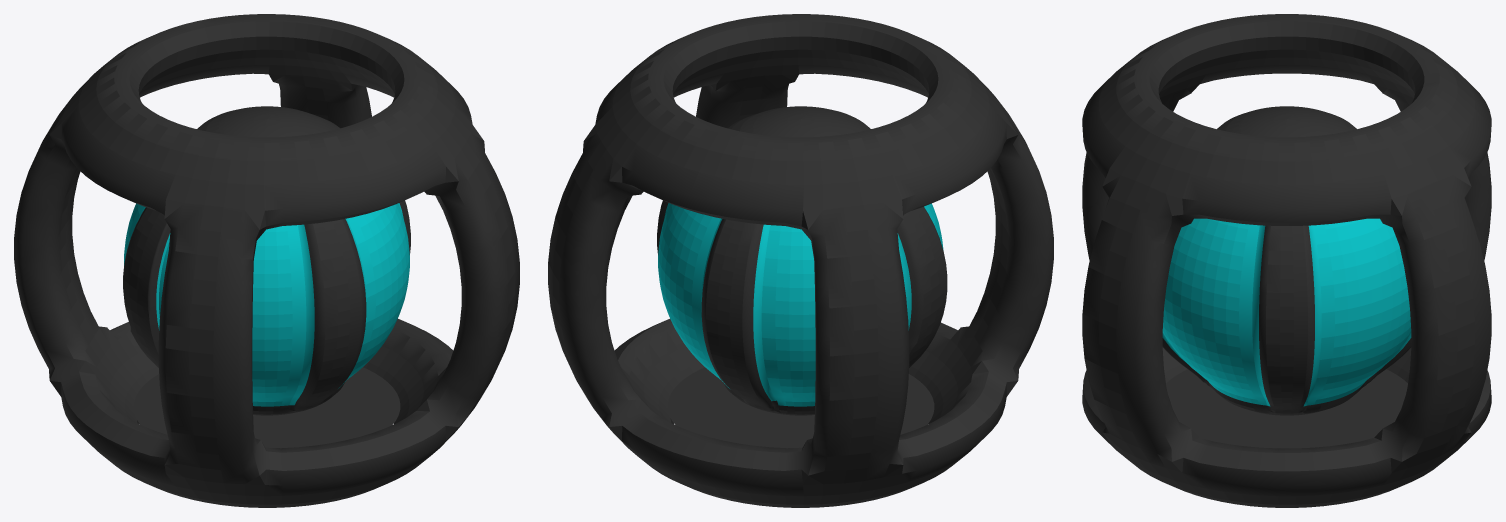
The model's file is AwfulDrone.obj.
The picture shows the model from 3 angles, left to right: view 1: azimuth 30°, elevation 25°; view 2: azimuth 150°, elevation 25°; view 3: azimuth 270°, elevation 25°; orthographic projection.
Parts seen in each view (by area): view 1: Sphere.002_Sphere.001, Sphere.001_Sphere.002, Cone; view 2: Sphere.002_Sphere.001, Sphere.001_Sphere.002, Cone; view 3: Sphere.002_Sphere.001, Sphere.001_Sphere.002, Cone.
Part boxes in pixels (left/top/right/bottom): Sphere.002_Sphere.001: left=14, top=14, right=519, bottom=507; Sphere.001_Sphere.002: left=123, top=106, right=410, bottom=415; Cone: left=133, top=367, right=400, bottom=448; Sphere.002_Sphere.001: left=548, top=14, right=1053, bottom=507; Sphere.001_Sphere.002: left=657, top=106, right=947, bottom=415; Cone: left=667, top=367, right=934, bottom=448; Sphere.002_Sphere.001: left=1082, top=14, right=1491, bottom=507; Sphere.001_Sphere.002: left=1162, top=106, right=1411, bottom=415; Cone: left=1166, top=369, right=1407, bottom=448.
Size of the model in its own units: 0.3592 by 0.4103 by 0.3592.
